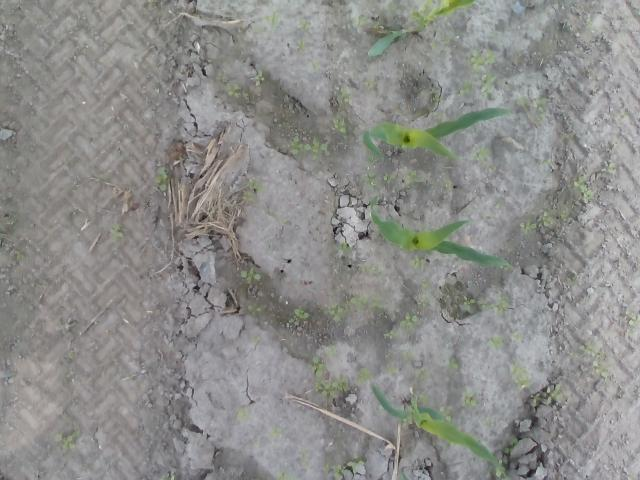Maize: (370, 380, 510, 478), (370, 194, 512, 268), (364, 108, 512, 162), (367, 0, 478, 60)
Weeds: (572, 340, 610, 384), (312, 355, 350, 398), (461, 294, 512, 317), (290, 133, 330, 159), (517, 96, 551, 123), (411, 0, 449, 24), (520, 208, 554, 234), (349, 290, 389, 310), (507, 362, 534, 390), (52, 429, 82, 452), (533, 382, 564, 402), (468, 51, 498, 70), (574, 174, 594, 202), (240, 181, 264, 204), (225, 82, 248, 103), (153, 166, 171, 192), (466, 148, 495, 164), (342, 454, 367, 472), (412, 280, 429, 306), (324, 302, 346, 322), (402, 168, 422, 188), (486, 331, 505, 352), (8, 214, 23, 240), (480, 75, 500, 94), (428, 35, 452, 50), (238, 269, 261, 284), (400, 313, 420, 330), (461, 390, 478, 410), (285, 310, 307, 324), (332, 118, 349, 136), (442, 356, 460, 373), (409, 255, 428, 271), (354, 368, 370, 387), (363, 170, 378, 190), (338, 86, 352, 107), (297, 449, 312, 468), (110, 221, 124, 241), (348, 16, 370, 28), (235, 404, 249, 422), (504, 436, 518, 454), (10, 249, 28, 263), (270, 423, 284, 440), (439, 405, 453, 422), (247, 302, 263, 316), (628, 312, 639, 332), (266, 13, 280, 28), (459, 80, 473, 94), (383, 171, 397, 185), (416, 370, 430, 384), (251, 72, 264, 87), (508, 331, 524, 343), (362, 264, 381, 274), (383, 329, 400, 340), (278, 471, 296, 480), (600, 164, 616, 174), (364, 78, 376, 91), (338, 242, 352, 253), (298, 20, 310, 32), (443, 178, 454, 191), (386, 366, 400, 376), (559, 208, 568, 223), (483, 417, 495, 428), (326, 344, 337, 356), (384, 0, 398, 9), (298, 40, 307, 54), (218, 71, 230, 81), (384, 352, 398, 360), (250, 336, 260, 346), (586, 18, 597, 27), (312, 59, 320, 71), (403, 350, 412, 360)
